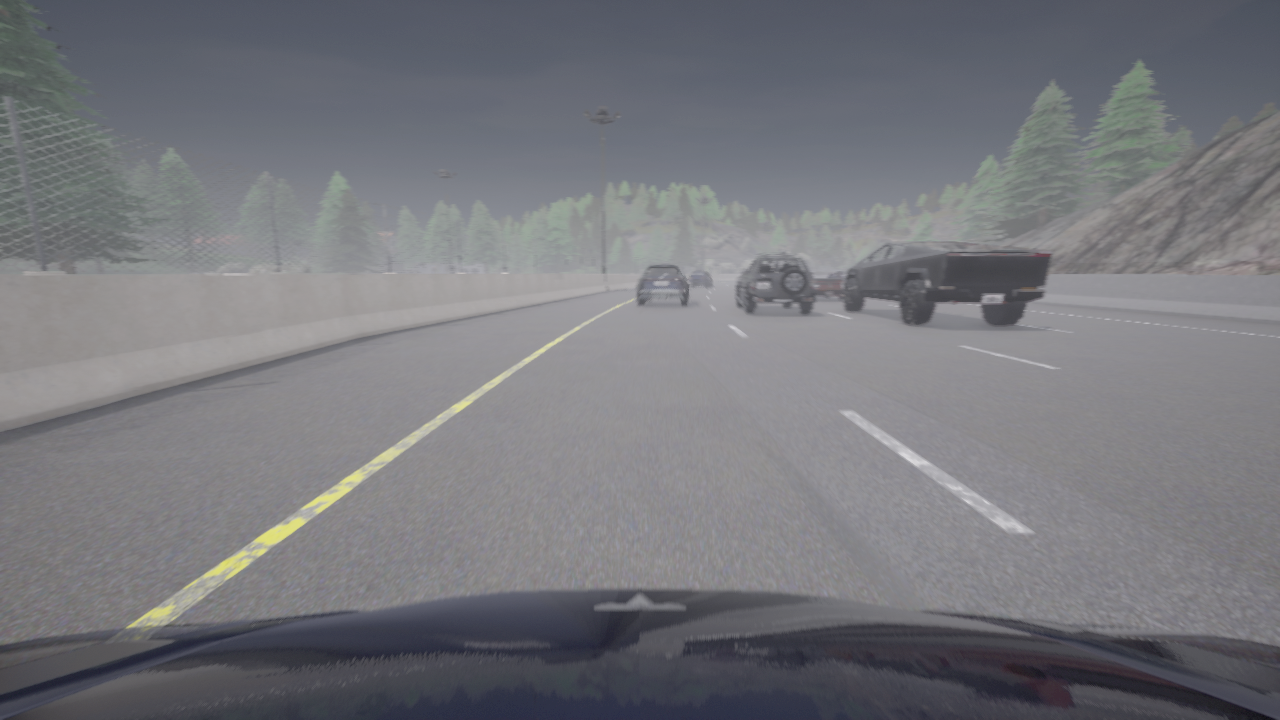cyclist: (0, 588, 1279, 719), (842, 241, 1052, 325), (735, 253, 816, 313), (637, 263, 690, 305), (810, 272, 843, 299), (688, 271, 712, 286), (837, 271, 845, 280)
